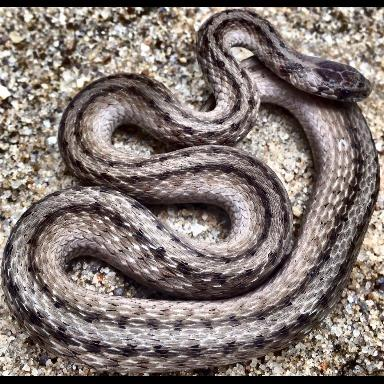snake: (0, 12, 373, 360)
